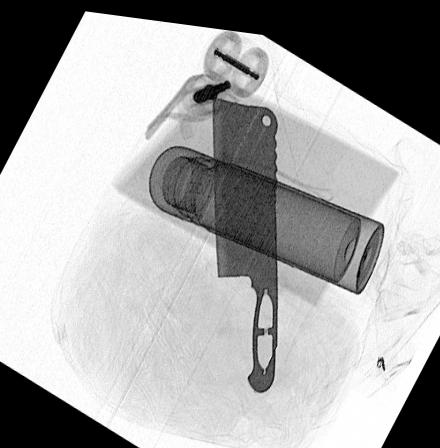Knife: (208, 87, 278, 389)
